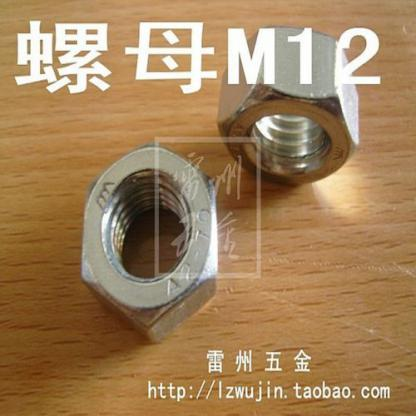FOD: (74, 145, 224, 338), (217, 29, 364, 184)
